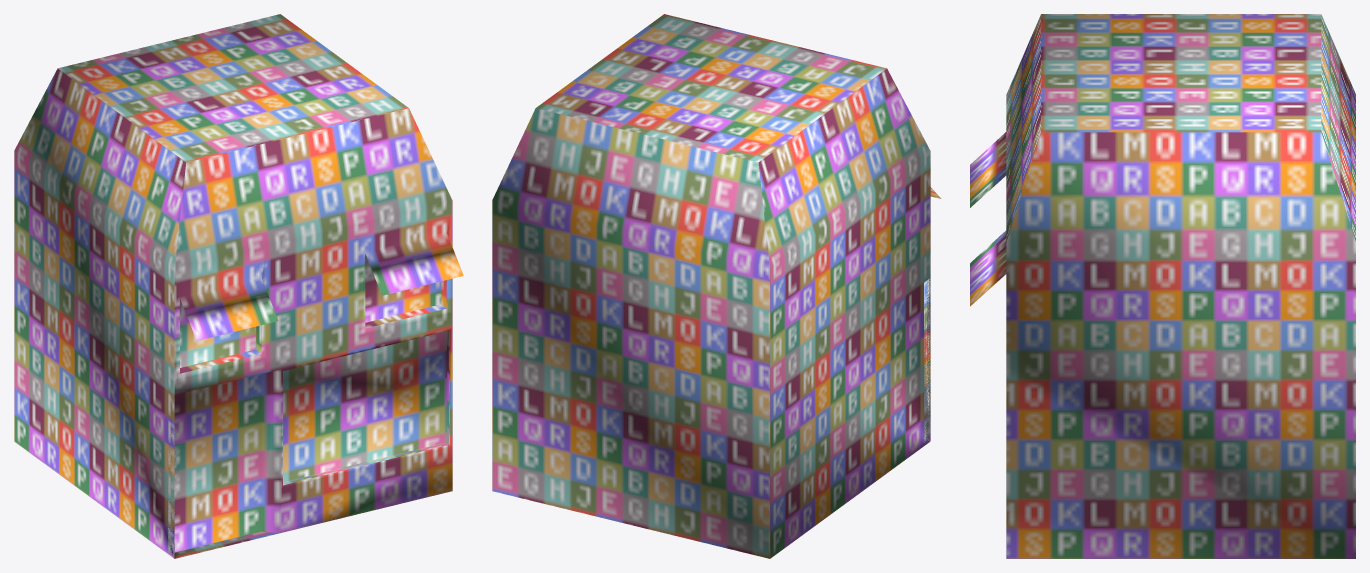
Rendered from building_10.obj.
3 views of the same model, side by side, from view 1: azimuth 30°, elevation 25°; view 2: azimuth 150°, elevation 25°; view 3: azimuth 270°, elevation 25° (orthographic). The views are drawn at different scales.
Parts seen in each view (by area): view 1: Cube3_copy4; view 2: Cube3_copy4; view 3: Cube3_copy4.
Boxes of the visible parts, x1,y1,x2,y2 form: Cube3_copy4: (14,14,463,558); Cube3_copy4: (492,14,941,558); Cube3_copy4: (970,14,1355,558).
Size of the model in its own units: 274 by 356 by 302.
Materials: 1 (1 with a texture image).
